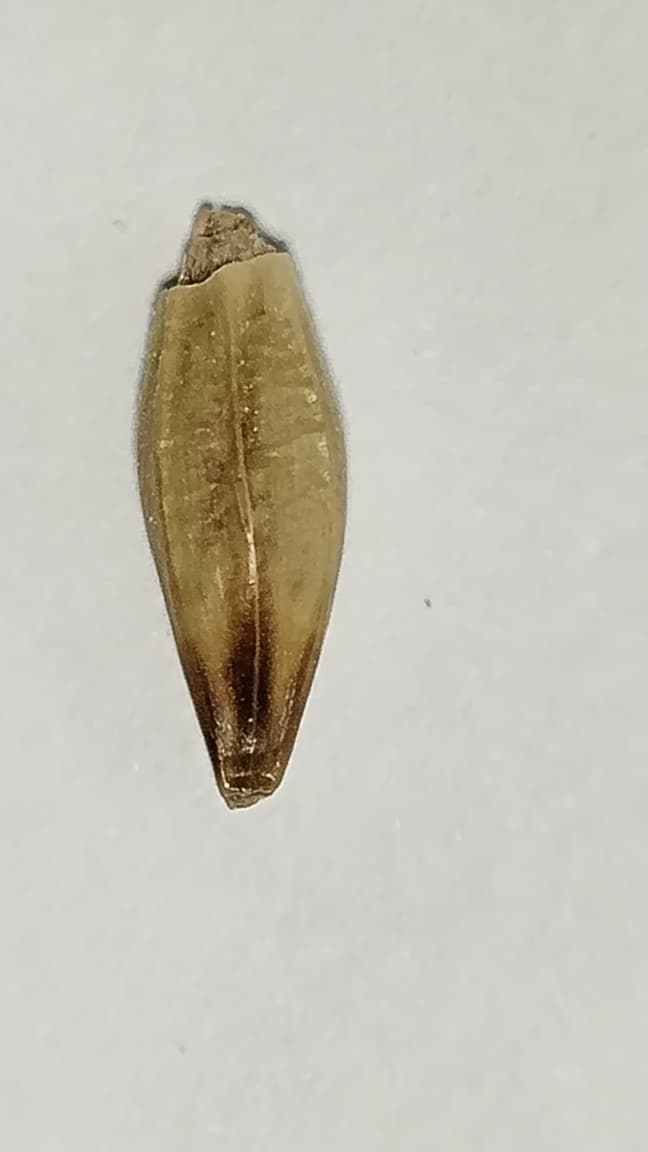damage: (134, 202, 351, 807)
insectdamage: (160, 198, 300, 302)
staindamage: (167, 600, 313, 808)
